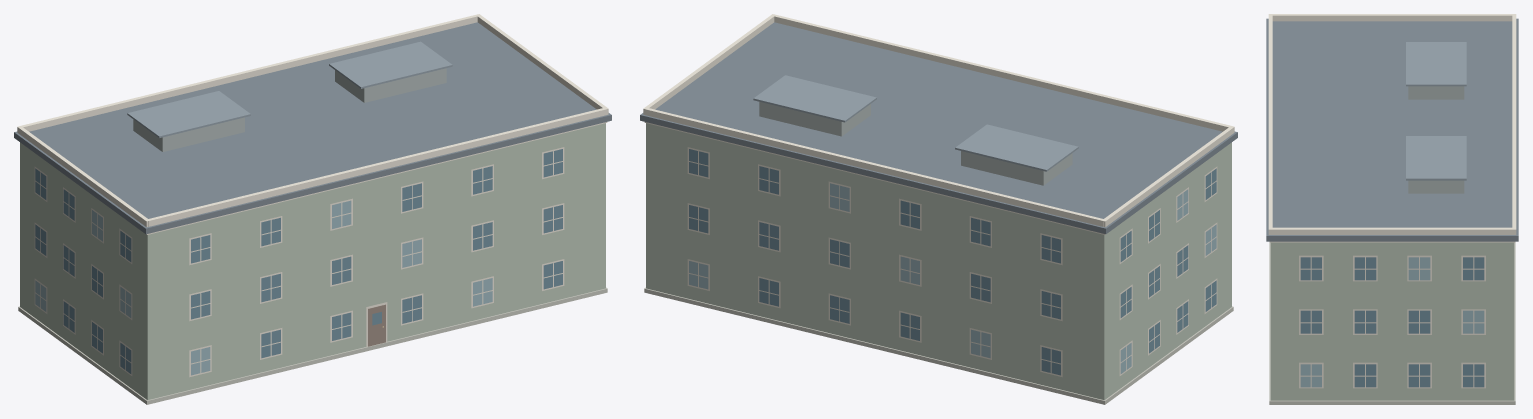
File: apartment-courtyard-wing.glb
3 views of the same model, side by side, from view 1: azimuth 30°, elevation 25°; view 2: azimuth 150°, elevation 25°; view 3: azimuth 270°, elevation 25° (orthographic). The views are drawn at different scales.
Visible parts, largest first — view 1: apartment-courtyard-wing; view 2: apartment-courtyard-wing; view 3: apartment-courtyard-wing.
Part boxes in pixels (x1,y1,x2,y2): apartment-courtyard-wing: (14, 14, 611, 404); apartment-courtyard-wing: (640, 14, 1237, 404); apartment-courtyard-wing: (1266, 14, 1518, 404).
Bounding box in the file's own units: 27.45 × 11.02 × 13.45.
